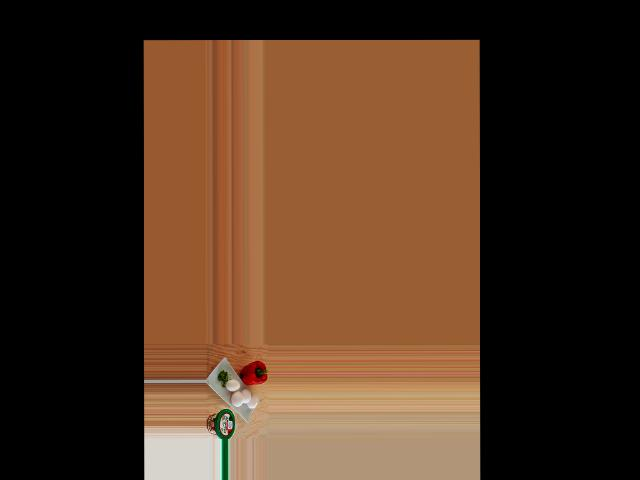bell_pepper: (241, 358, 267, 389)
